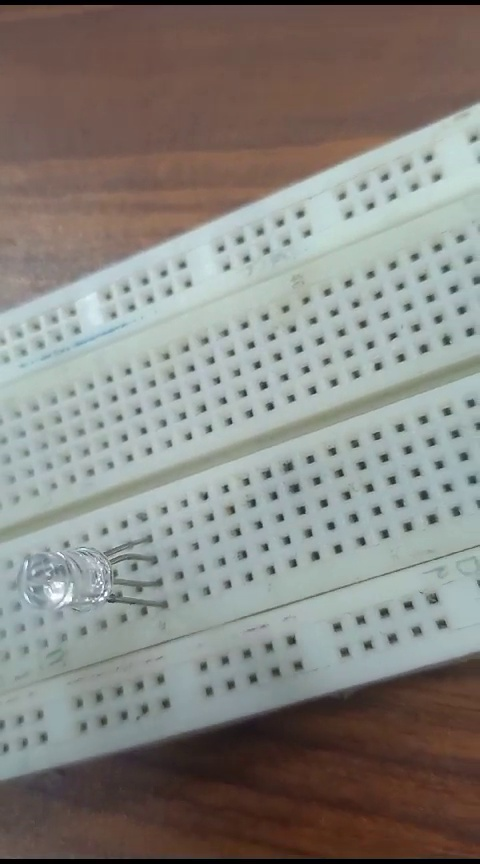LED: (20, 535, 156, 620)
